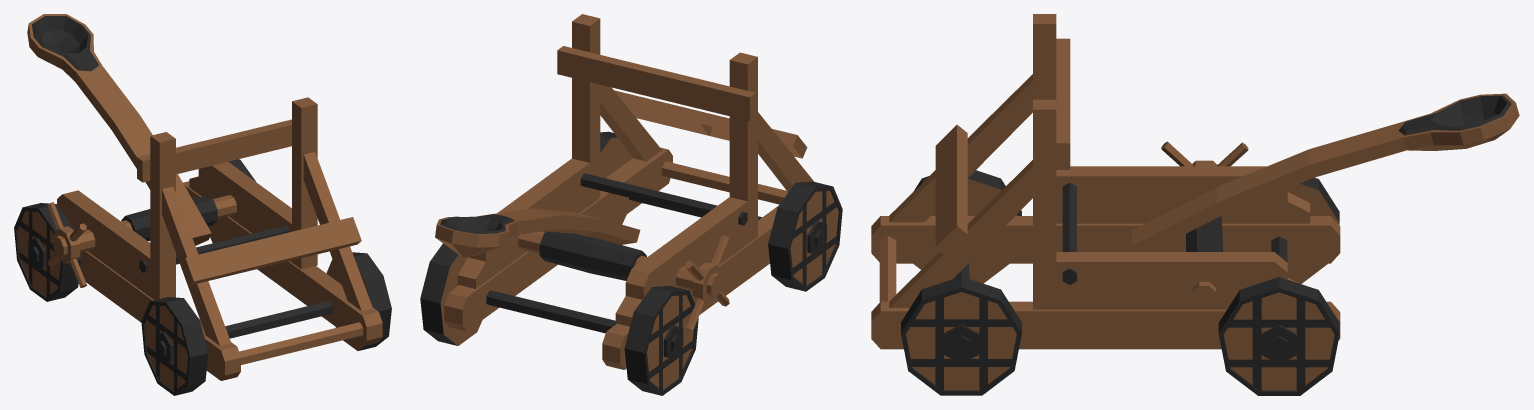
Rendered from catapult.glb.
3 renders of one model, left to right at view 1: azimuth 30°, elevation 25°; view 2: azimuth 150°, elevation 25°; view 3: azimuth 270°, elevation 25°, orthographic. The views are drawn at different scales.
Parts seen in each view (by area): view 1: catapult-base, catapult-wheels_back, catapult-projectile, catapult-wheels_front; view 2: catapult-base, catapult-wheels_front, catapult-wheels_back, catapult-projectile; view 3: catapult-base, catapult-wheels_front, catapult-wheels_back, catapult-projectile.
Part boxes in pixels (x1=…): catapult-base: x1=47, y1=97, x2=382, y2=380; catapult-wheels_back: x1=141, y1=252, x2=391, y2=395; catapult-projectile: x1=27, y1=14, x2=211, y2=245; catapult-wheels_front: x1=14, y1=159, x2=255, y2=301; catapult-base: x1=444, y1=14, x2=813, y2=369; catapult-wheels_front: x1=420, y1=243, x2=698, y2=395; catapult-wheels_back: x1=600, y1=131, x2=842, y2=291; catapult-projectile: x1=435, y1=208, x2=640, y2=257; catapult-base: x1=871, y1=14, x2=1340, y2=349; catapult-wheels_front: x1=1218, y1=177, x2=1339, y2=395; catapult-wheels_back: x1=901, y1=170, x2=1021, y2=395; catapult-projectile: x1=1132, y1=93, x2=1519, y2=251.
Bounding box in the file's own units: 2.64 × 2.55 × 5.49.
Materials: 1 (1 with a texture image).
